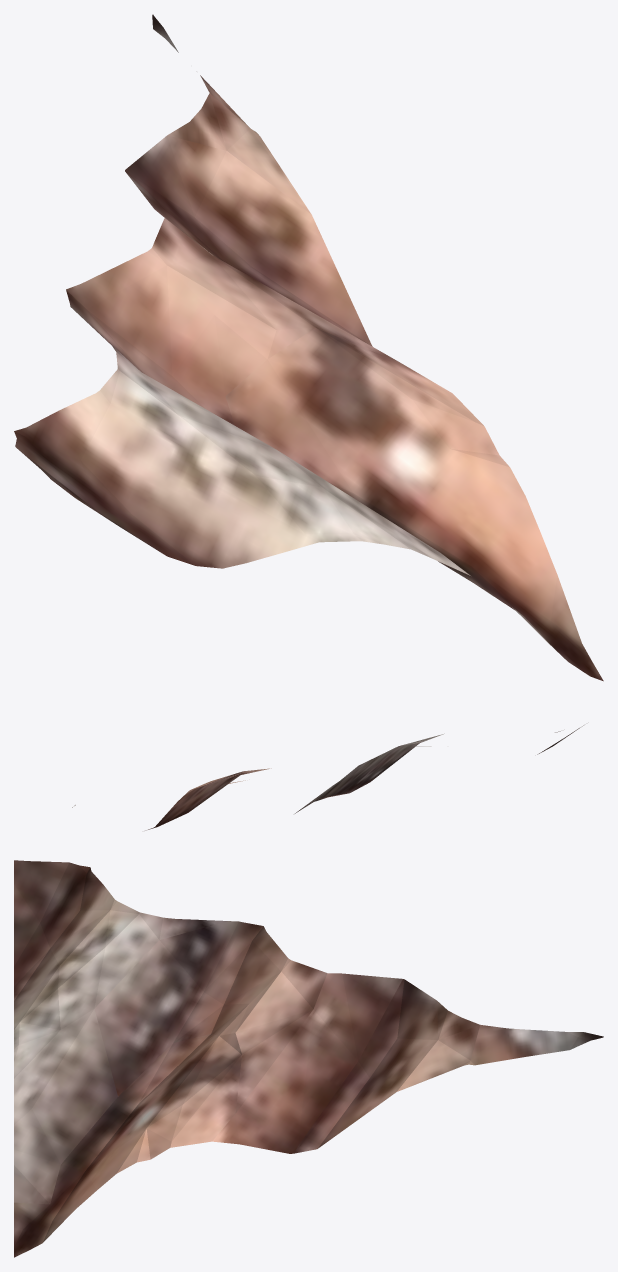
3 views of the same model, one above another, from view 1: azimuth 30°, elevation 25°; view 2: azimuth 150°, elevation 25°; view 3: azimuth 270°, elevation 25° (orthographic). The views are drawn at different scales.
Size of the model in its own units: 0.4019 by 0.234 by 0.567.
Materials: 1 (1 with a texture image).
